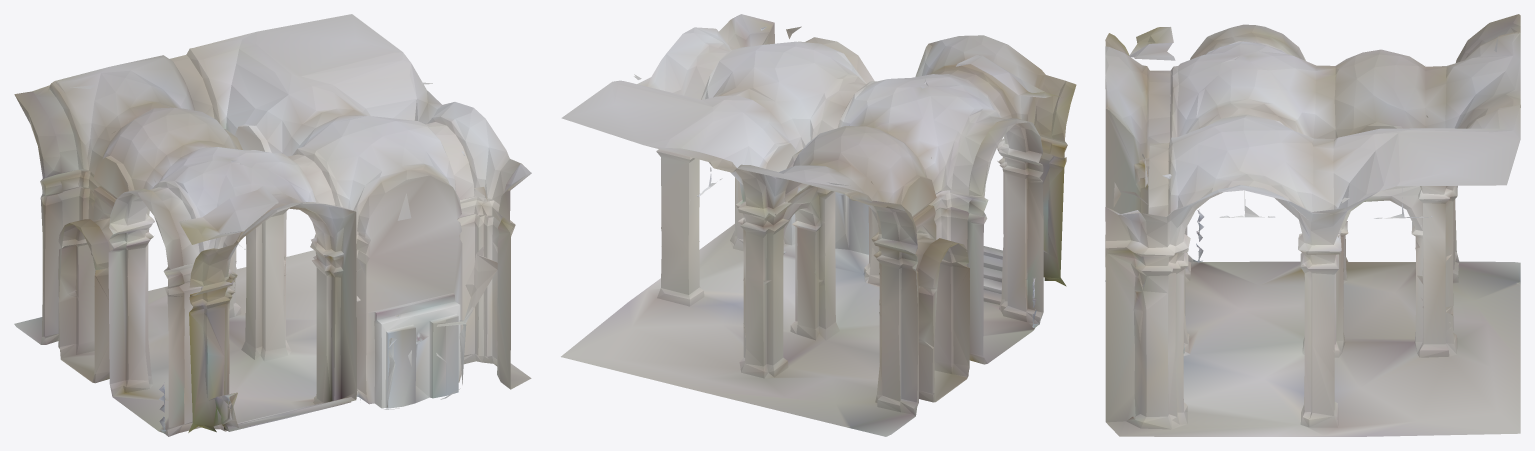
The picture shows the model from 3 angles, left to right: view 1: azimuth 30°, elevation 25°; view 2: azimuth 150°, elevation 25°; view 3: azimuth 270°, elevation 25°; orthographic projection. The views are drawn at different scales.
Bounding box in the file's own units: 10.21 × 6.95 × 10.01.
